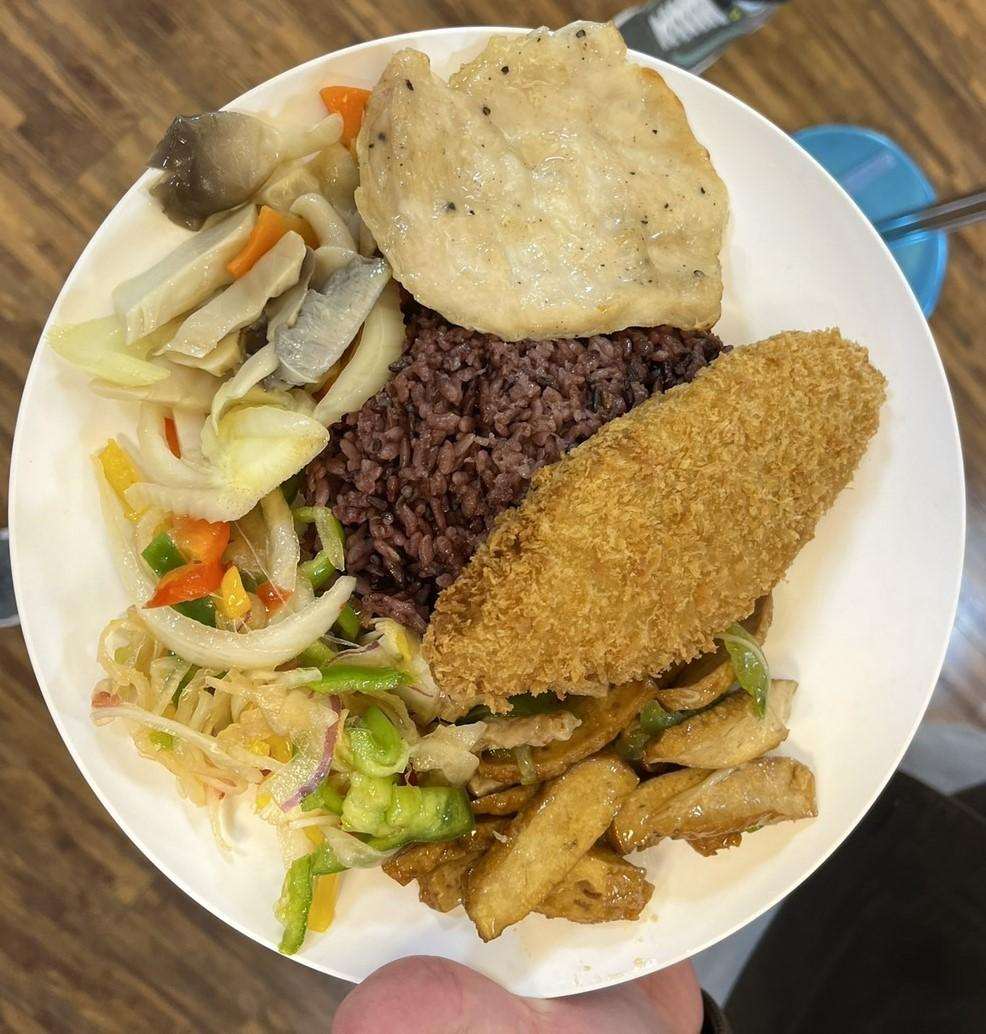big fried chicken leg: (0, 27, 982, 995)
braised fish: (305, 310, 730, 616)
braised fish fillet: (50, 347, 461, 949), (415, 656, 818, 925), (112, 81, 391, 392)
braised pork: (420, 330, 890, 712), (353, 31, 730, 334)
